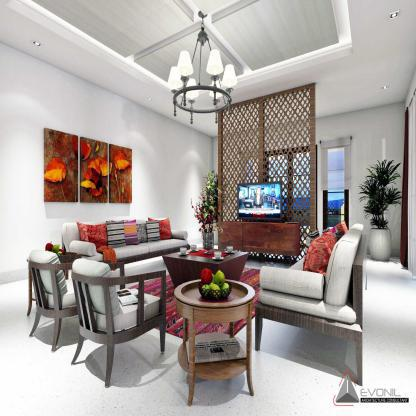bantal: (79, 223, 108, 250), (107, 221, 126, 248), (123, 218, 137, 244), (158, 218, 173, 239), (146, 222, 161, 241)
kursi: (359, 162, 399, 264)
lampu: (70, 254, 168, 379)
sova: (258, 222, 374, 383), (57, 215, 188, 269)
tv: (236, 183, 282, 220)
